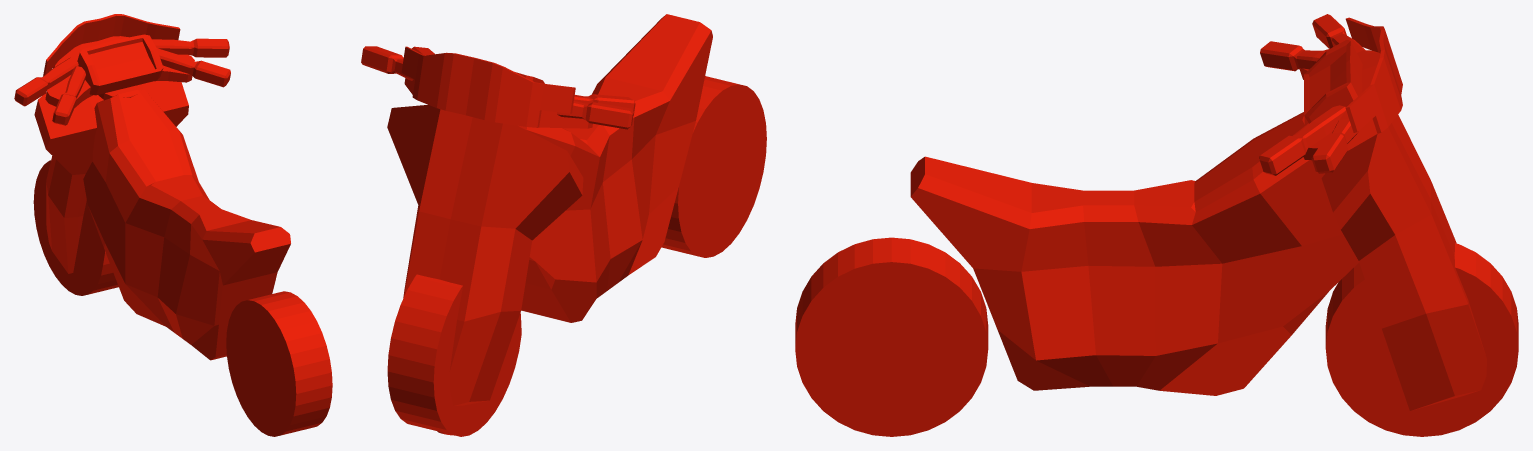
Rendered from ghost_highway__bike03.glb.
The picture shows the model from 3 angles, left to right: view 1: azimuth 30°, elevation 25°; view 2: azimuth 150°, elevation 25°; view 3: azimuth 270°, elevation 25°; orthographic projection. The views are drawn at different scales.
Visible parts, largest first — view 1: bike_body_03, bike_steer_03; view 2: bike_body_03, bike_steer_03; view 3: bike_body_03, bike_steer_03.
Part boxes in pixels (<box>): bike_body_03: <box>34,81,332,436</box>; bike_steer_03: <box>14,14,230,295</box>; bike_body_03: <box>387,14,766,405</box>; bike_steer_03: <box>361,46,635,436</box>; bike_body_03: <box>795,112,1486,436</box>; bike_steer_03: <box>1259,14,1518,436</box>.
Size of the model in its own units: 1.13 by 1.45 by 2.43.
